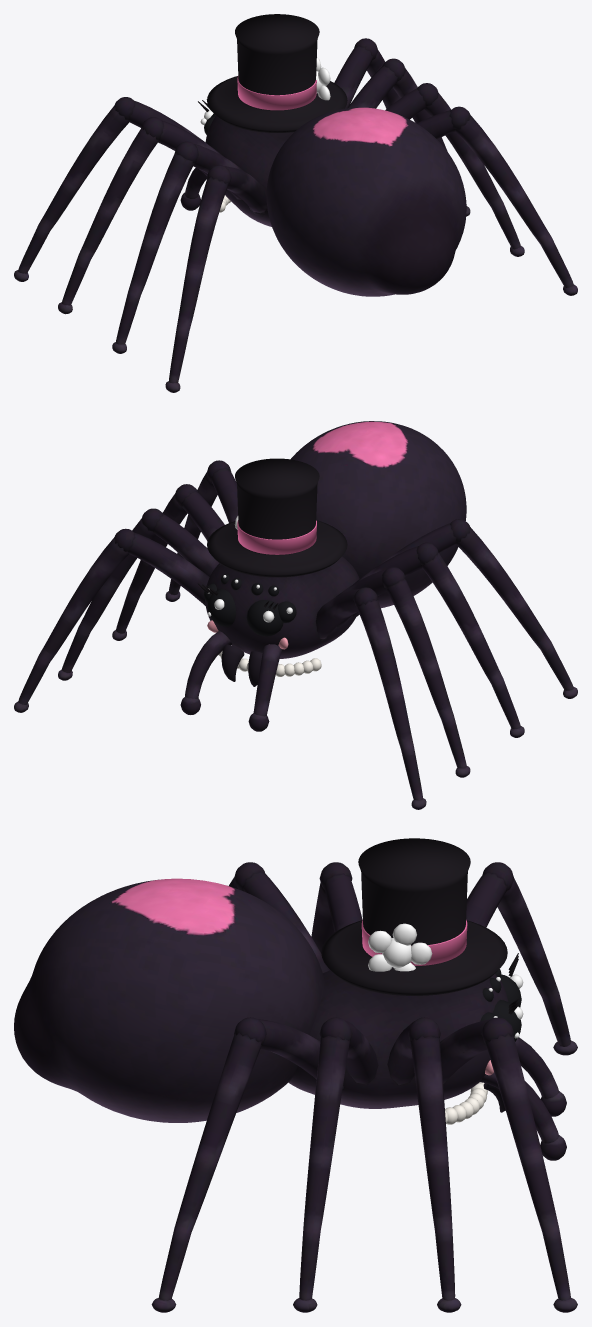
File: spiders-madame.glb
3 views of the same model, one above another, from view 1: azimuth 30°, elevation 25°; view 2: azimuth 150°, elevation 25°; view 3: azimuth 270°, elevation 25° (orthographic). The views are drawn at different scales.
Visible parts, largest first — view 1: Madame__Abdomen, Madame__TopHat, Madame__Leg4LLow, Madame__Leg3LLow, Madame__Leg4RLow, Madame__Body, Madame__Leg2LLow, Madame__Leg1LLow, Madame__Leg3RLow, Madame__Leg4LUp, Madame__Leg1RUp, Madame__Leg2RUp (+8 smaller); view 2: Madame__Abdomen, Madame__TopHat, Madame__Body, Madame__Leg1LLow, Madame__Leg2LLow, Madame__Leg3LLow, Madame__Leg4LLow, Madame__Leg1RLow, Madame__Eyes, Madame__Leg1RUp, Madame__Leg2RLow, Madame__Leg2RUp (+13 smaller); view 3: Madame__Abdomen, Madame__TopHat, Madame__Body, Madame__Leg4RLow, Madame__Leg1RLow, Madame__Leg2RLow, Madame__Leg3RLow, Madame__Leg1LLow, Madame__Leg4RUp, Madame__HatFlower, Madame__Leg1RUp, Madame__Leg4LUp (+10 smaller).
Boxes of the visible parts, bbox=[...] form: Madame__Abdomen: bbox=[266, 107, 466, 296]; Madame__TopHat: bbox=[207, 14, 347, 132]; Madame__Leg4LLow: bbox=[165, 177, 227, 392]; Madame__Leg3LLow: bbox=[112, 153, 194, 353]; Madame__Leg4RLow: bbox=[455, 115, 577, 295]; Madame__Body: bbox=[205, 116, 293, 226]; Madame__Leg2LLow: bbox=[58, 127, 158, 314]; Madame__Leg1LLow: bbox=[14, 105, 129, 281]; Madame__Leg3RLow: bbox=[424, 93, 524, 256]; Madame__Leg4LUp: bbox=[207, 165, 267, 216]; Madame__Leg1RUp: bbox=[334, 38, 378, 108]; Madame__Leg2RUp: bbox=[347, 58, 405, 108]; Madame__Abdomen: bbox=[291, 421, 466, 608]; Madame__TopHat: bbox=[207, 458, 347, 577]; Madame__Body: bbox=[205, 556, 359, 658]; Madame__Leg1LLow: bbox=[357, 599, 426, 809]; Madame__Leg2LLow: bbox=[385, 578, 470, 777]; Madame__Leg3LLow: bbox=[422, 552, 524, 737]; Madame__Leg4LLow: bbox=[456, 527, 577, 698]; Madame__Leg1RLow: bbox=[14, 537, 128, 712]; Madame__Eyes: bbox=[204, 574, 296, 636]; Madame__Leg1RUp: bbox=[114, 528, 209, 605]; Madame__Leg2RLow: bbox=[58, 518, 155, 680]; Madame__Leg2RUp: bbox=[141, 508, 219, 576]; Madame__Abdomen: bbox=[14, 878, 324, 1122]; Madame__TopHat: bbox=[321, 838, 507, 995]; Madame__Body: bbox=[288, 970, 508, 1108]; Madame__Leg4RLow: bbox=[151, 1032, 261, 1312]; Madame__Leg1RLow: bbox=[485, 1033, 577, 1312]; Madame__Leg2RLow: bbox=[410, 1035, 461, 1312]; Madame__Leg3RLow: bbox=[293, 1036, 349, 1312]; Madame__Leg1LLow: bbox=[497, 878, 577, 1055]; Madame__Leg4RUp: bbox=[234, 1017, 344, 1089]; Madame__HatFlower: bbox=[368, 923, 432, 971]; Madame__Leg1RUp: bbox=[440, 1017, 513, 1083]; Madame__Leg4LUp: bbox=[234, 862, 330, 972].
Bounding box in the file's own units: 22.87 × 13.02 × 20.57.
Materials: 29 (20 with a texture image).
